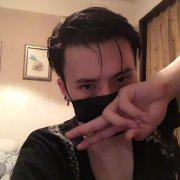OK: (72, 65, 149, 142)
